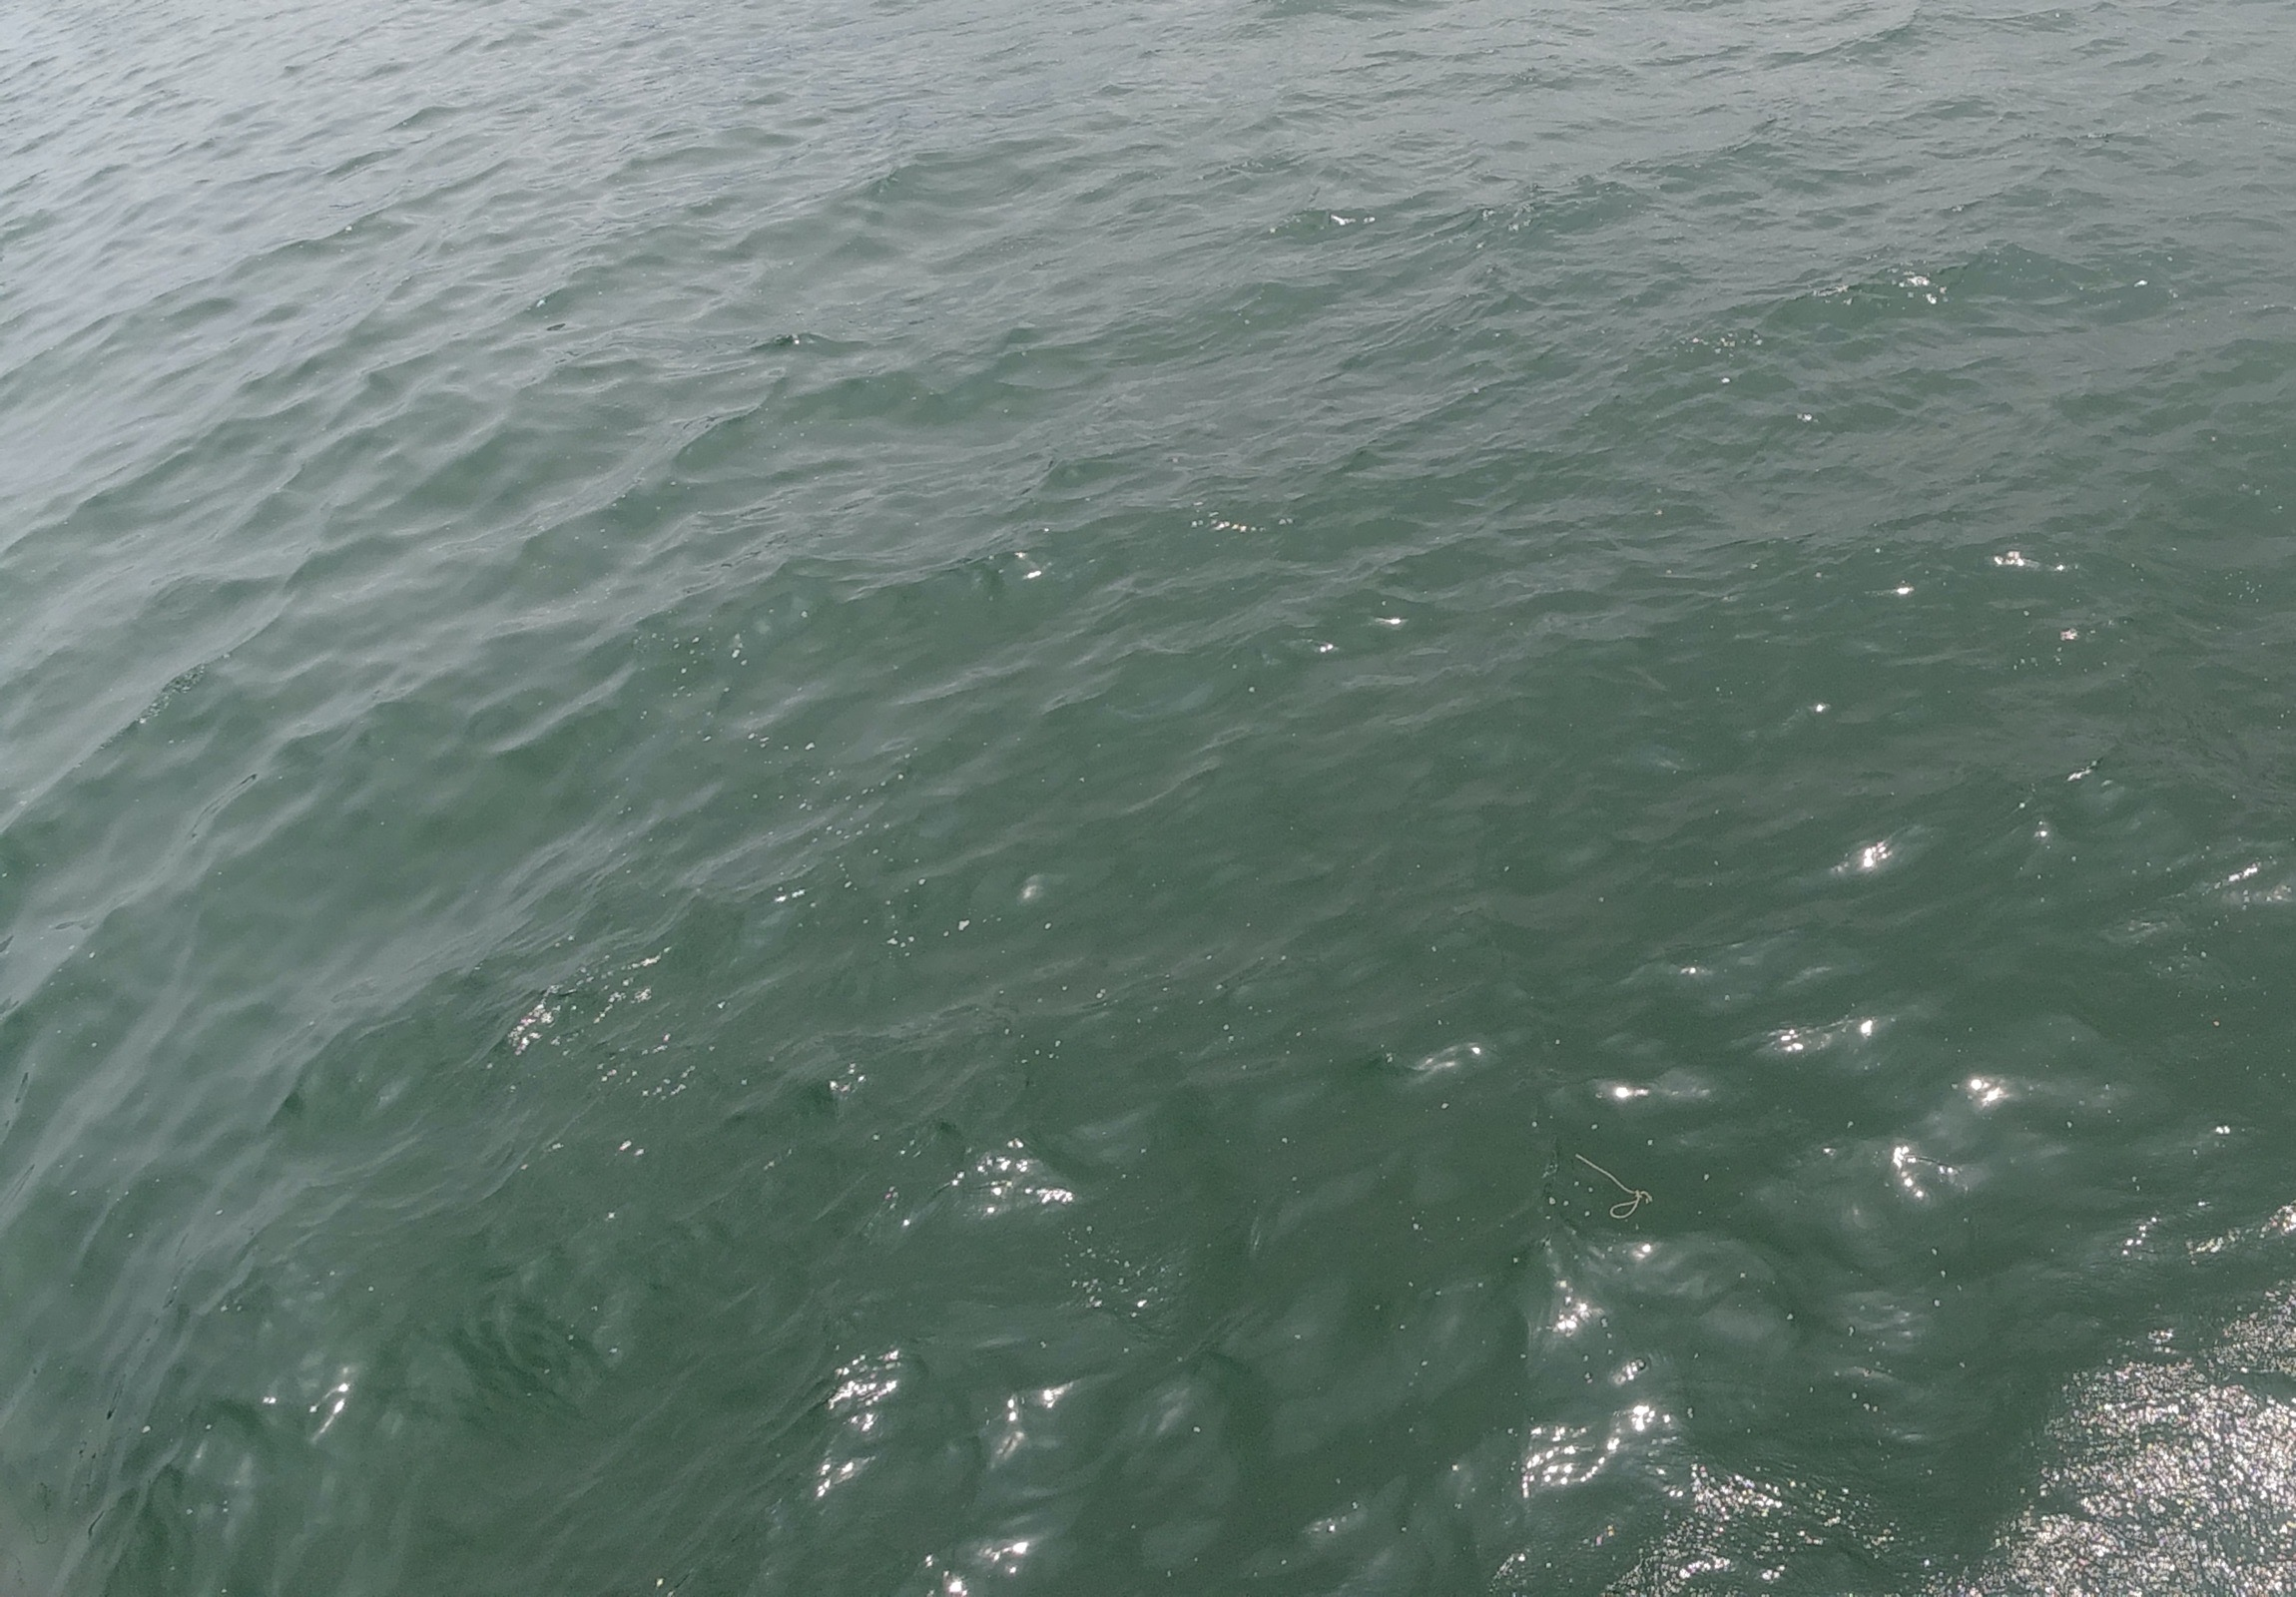plastic: (1561, 1134, 1663, 1229)
